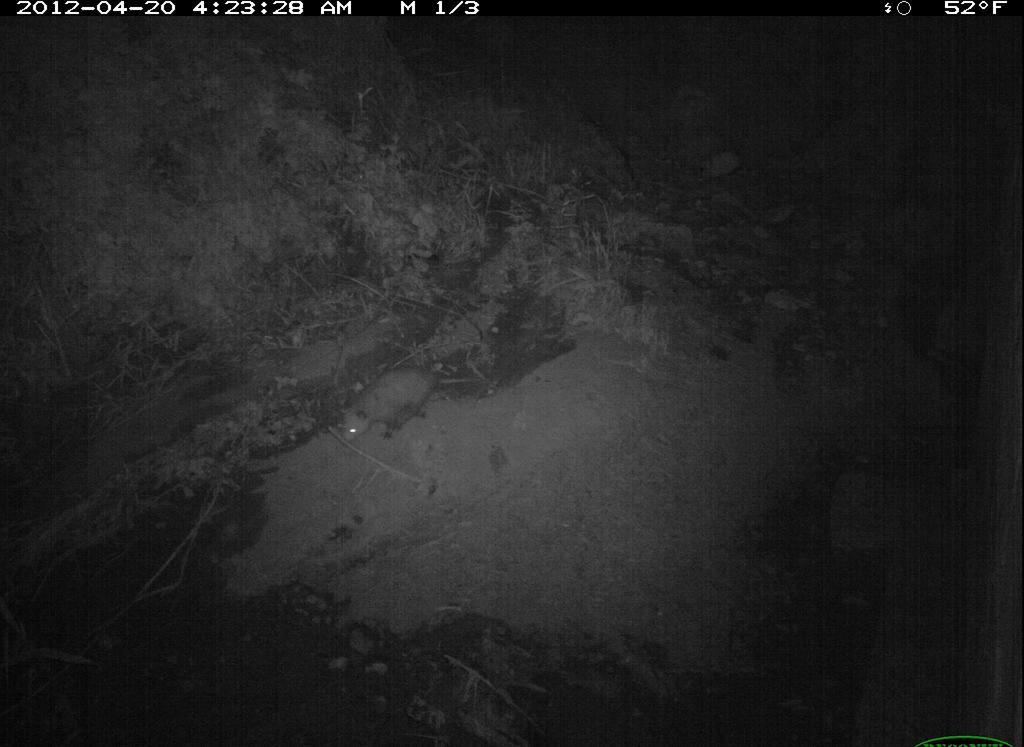opossum: (336, 346, 498, 452)
